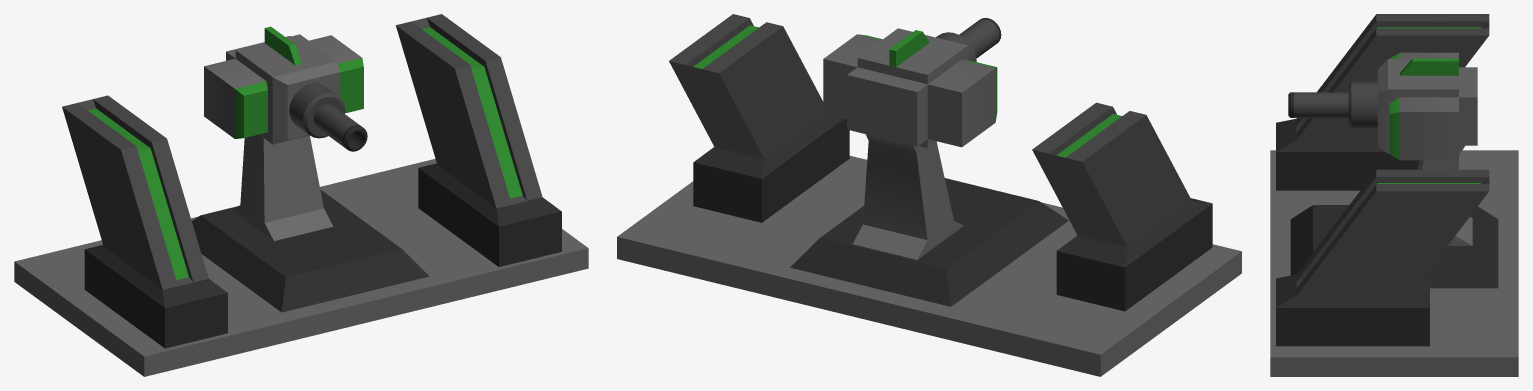
The model's file is gunSize2.glb.
3 renders of one model, left to right at view 1: azimuth 30°, elevation 25°; view 2: azimuth 150°, elevation 25°; view 3: azimuth 270°, elevation 25°, orthographic. The views are drawn at different scales.
Visible parts, largest first — view 1: Guns Size 2; view 2: Guns Size 2; view 3: Guns Size 2.
Part boxes in pixels (x1,y1,x2,y2): Guns Size 2: (14, 14, 588, 376); Guns Size 2: (617, 14, 1241, 376); Guns Size 2: (1270, 14, 1518, 376).
Size of the model in its own units: 1.87 by 0.8971 by 0.9466.
